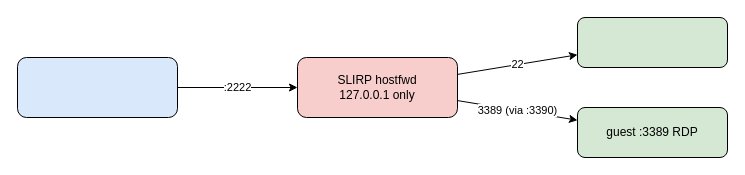
The diagram is 745 pixels wide and 175 high, and some of its shapes have lost their labels. Each missing label, with the box of its shape:
guest :22 OpenSSH: (576, 16, 728, 68)
ssh / xfreerdp client (host): (16, 56, 178, 118)
